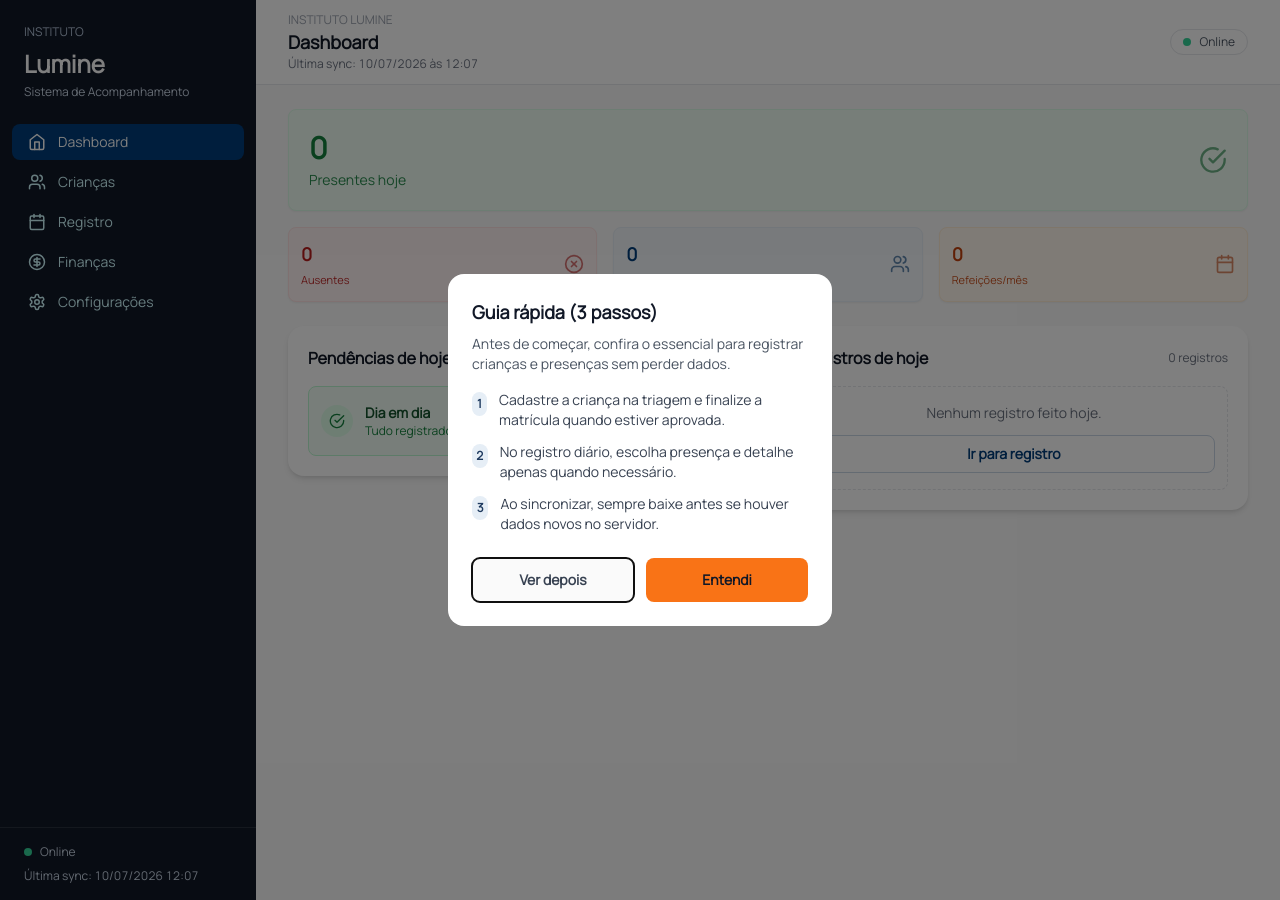
Test: shows onboarding modal on first use and closes on Entendi
The width and height of the screenshot is (1280, 900).
expect the heading "Guia rápida (3 passos)" is shown: met, box 472,300 -> 658,324
Click the button "Entendi".
click(727, 580)  # box 646,558 -> 808,602
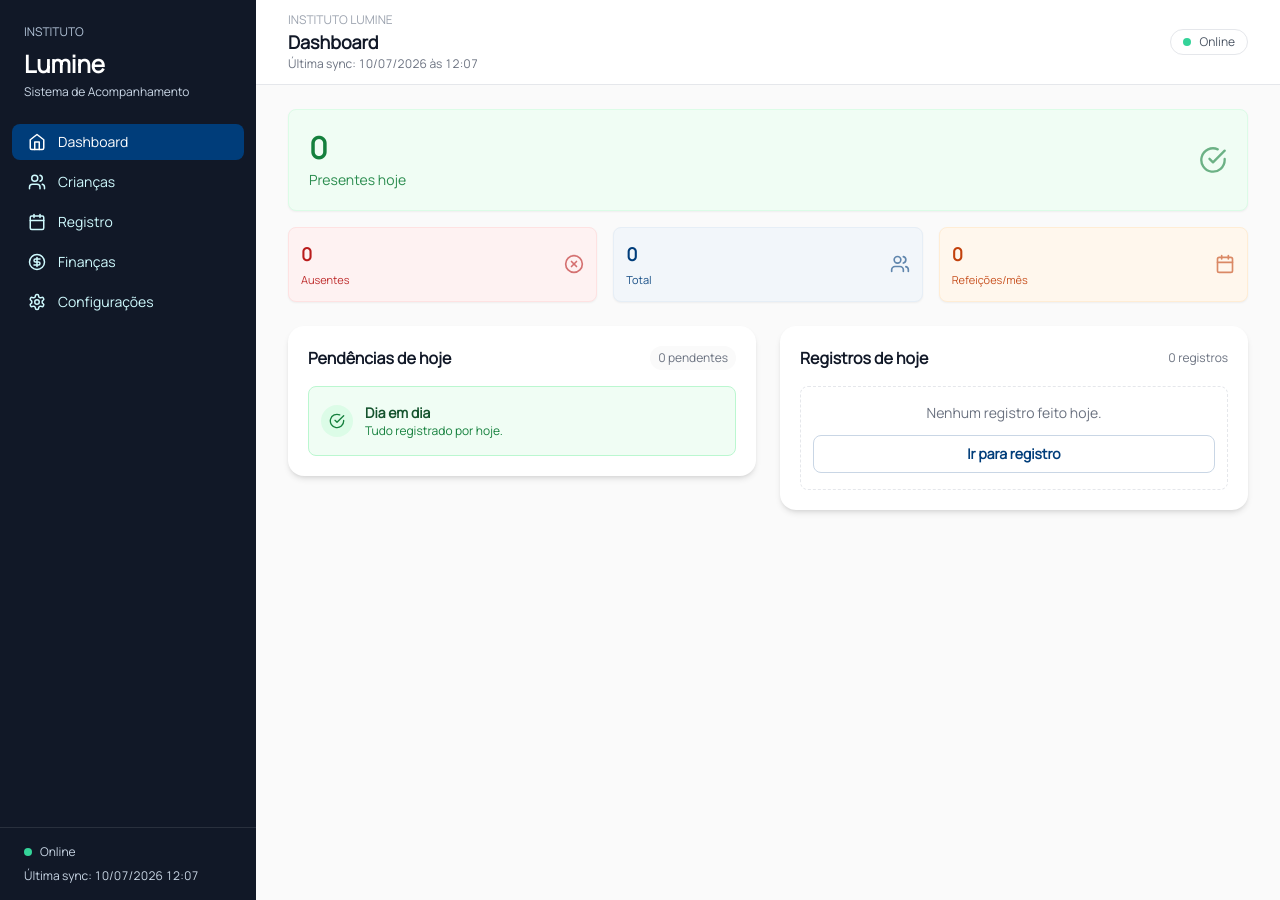
expect the heading "Guia rápida (3 passos)" is gone: met
